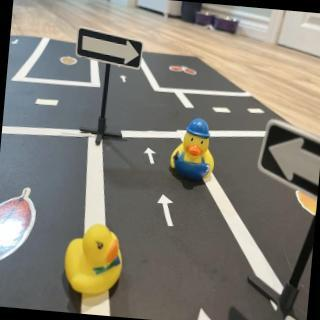duck_regular: (62, 222, 127, 305)
duck_specialty: (169, 118, 220, 190)
road_oneway: (156, 193, 180, 232), (192, 305, 223, 320), (143, 145, 160, 170), (119, 76, 131, 86), (11, 37, 22, 47)
sign_oneway_left: (255, 116, 320, 203)
sign_oneway_right: (74, 26, 146, 73)
